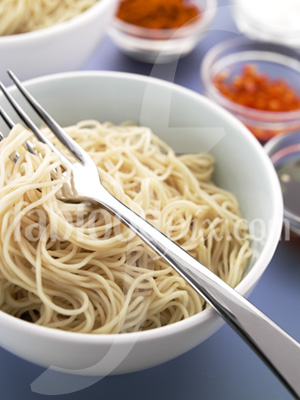plain spaghetti: (11, 184, 103, 305)
